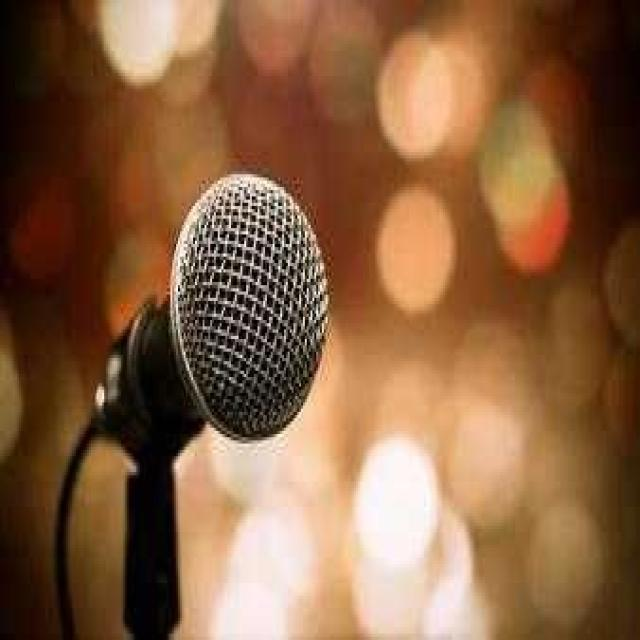microphone: (103, 168, 331, 462)
